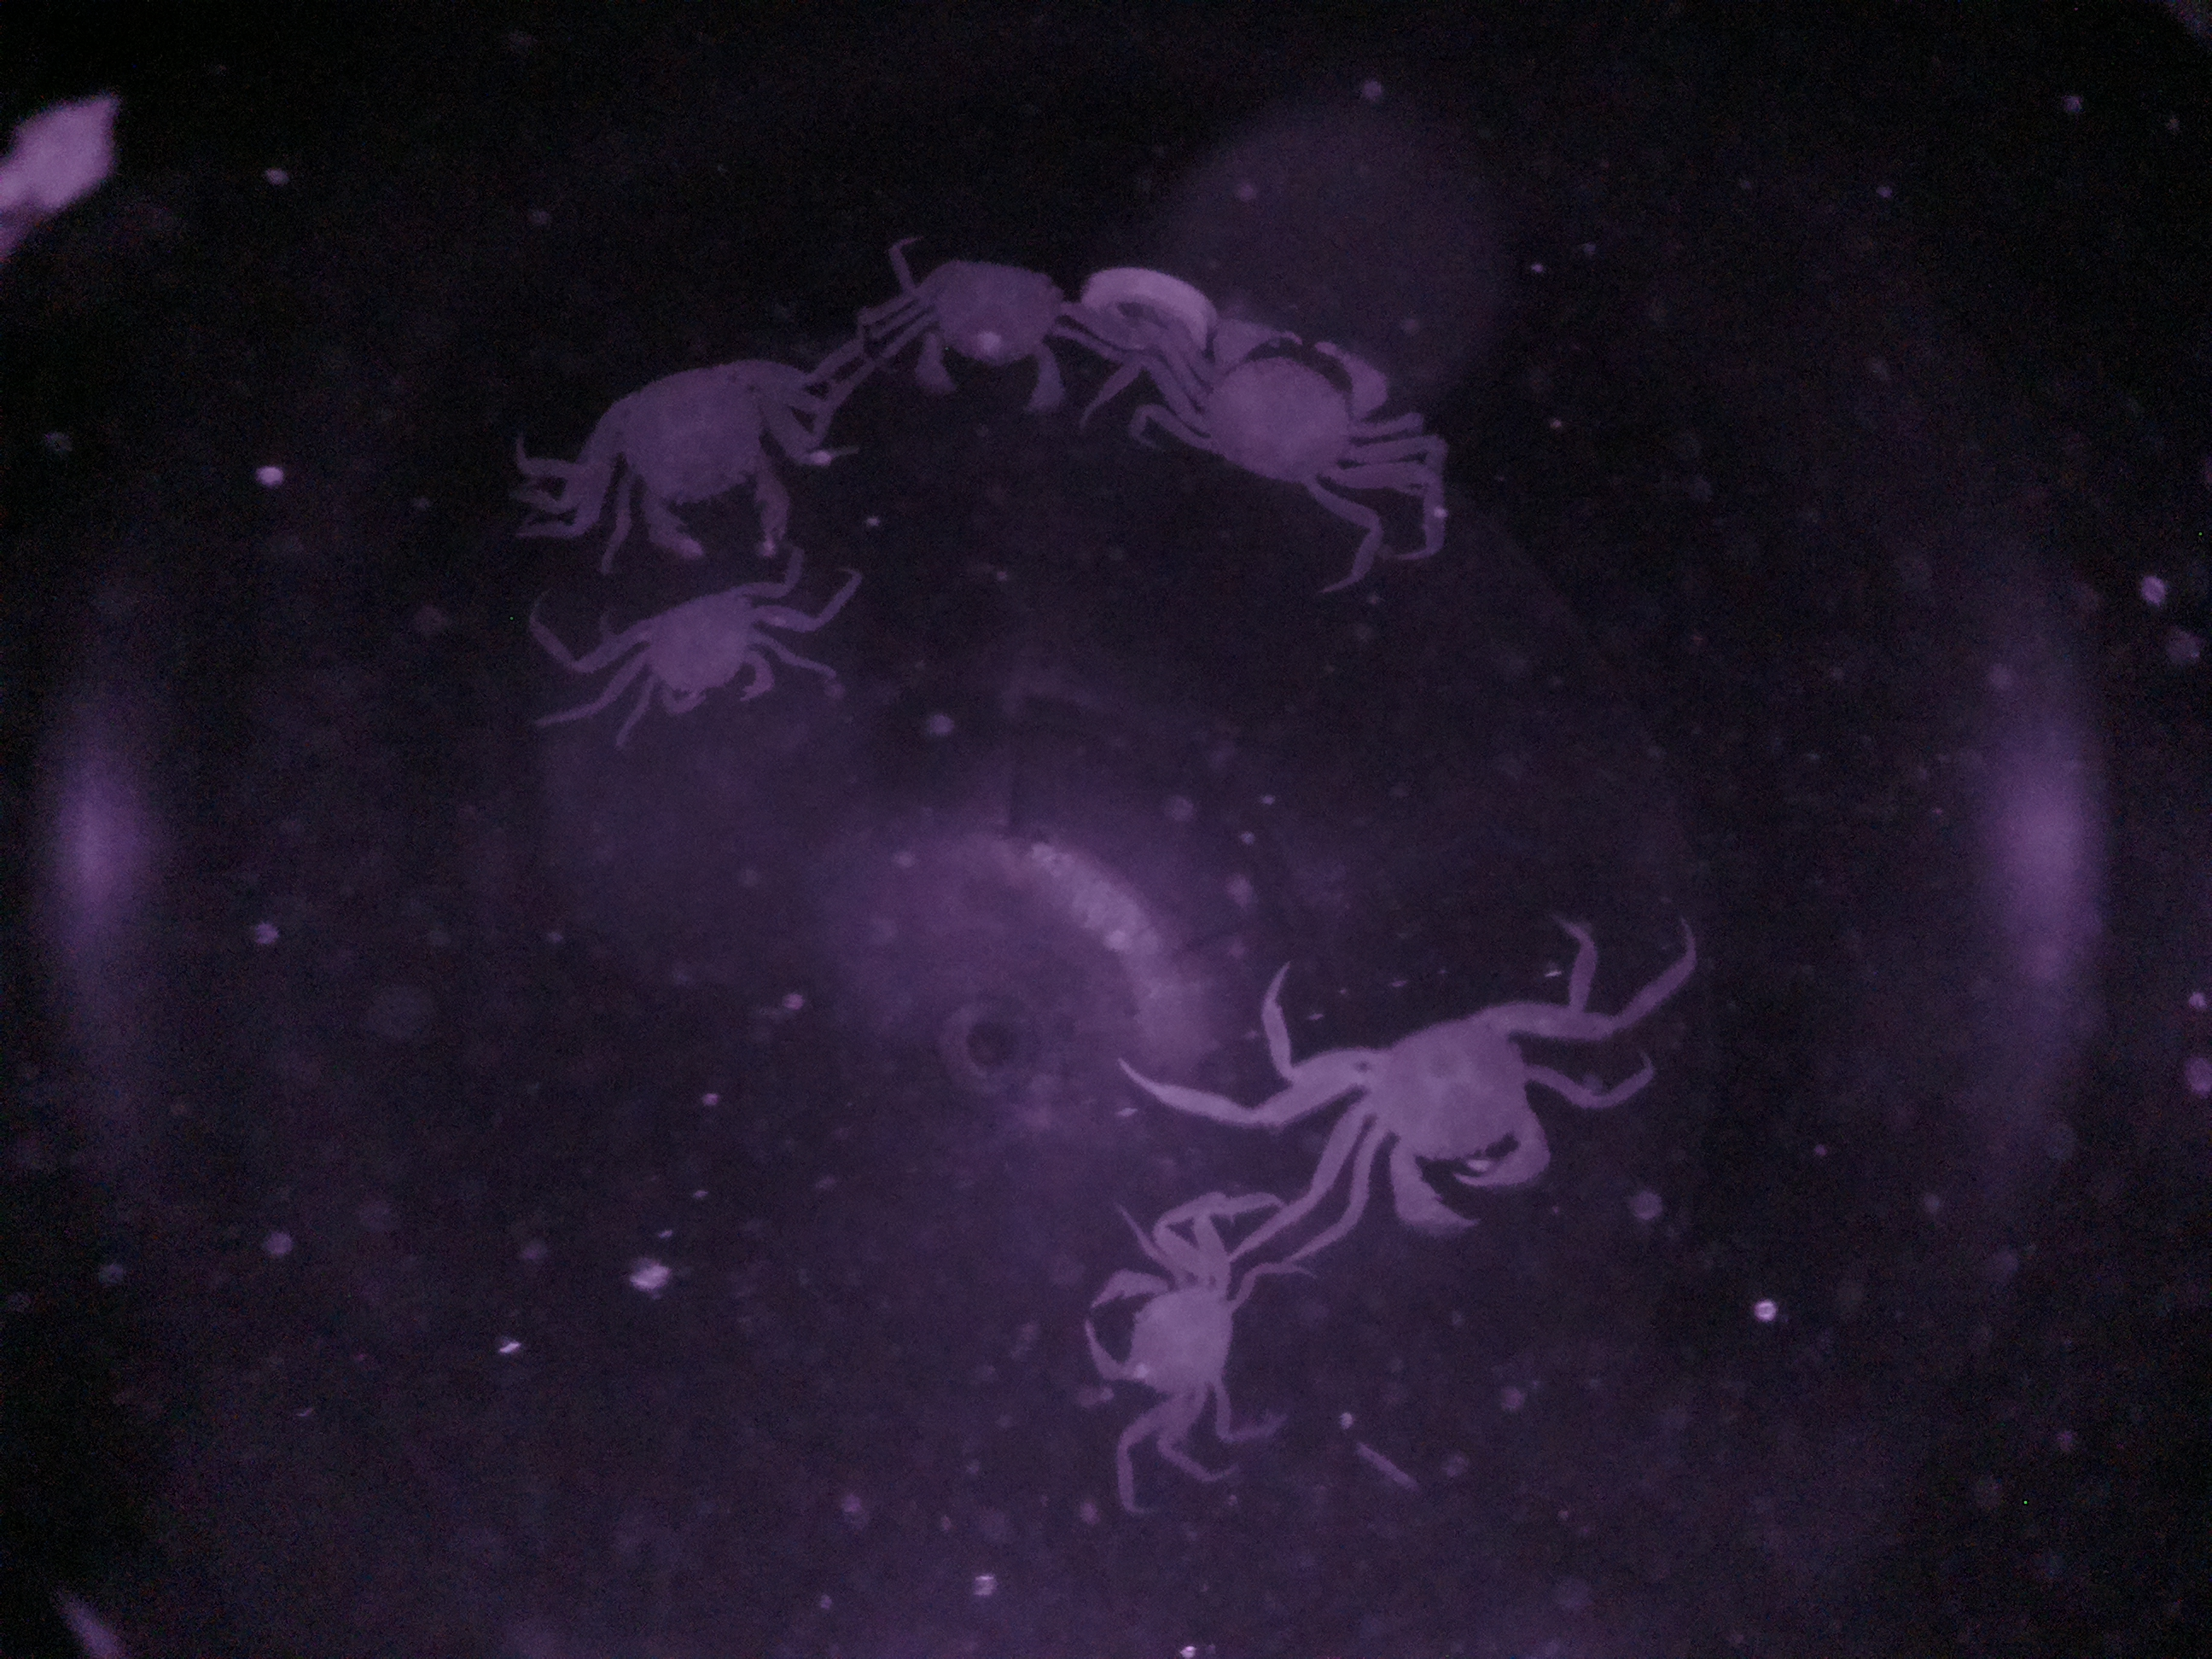Crab: (1306, 976, 1571, 1241), (578, 340, 812, 554), (1170, 310, 1399, 521), (1069, 1234, 1273, 1431), (900, 244, 1090, 427), (606, 572, 773, 741)
